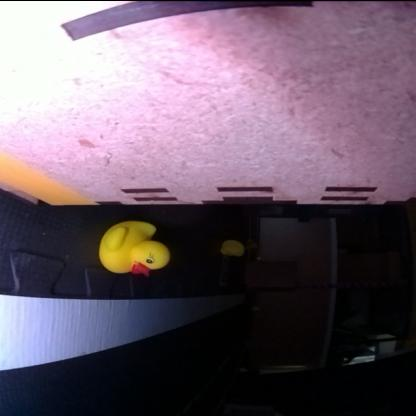Duckie: (102, 221, 170, 274), (222, 242, 244, 256)
